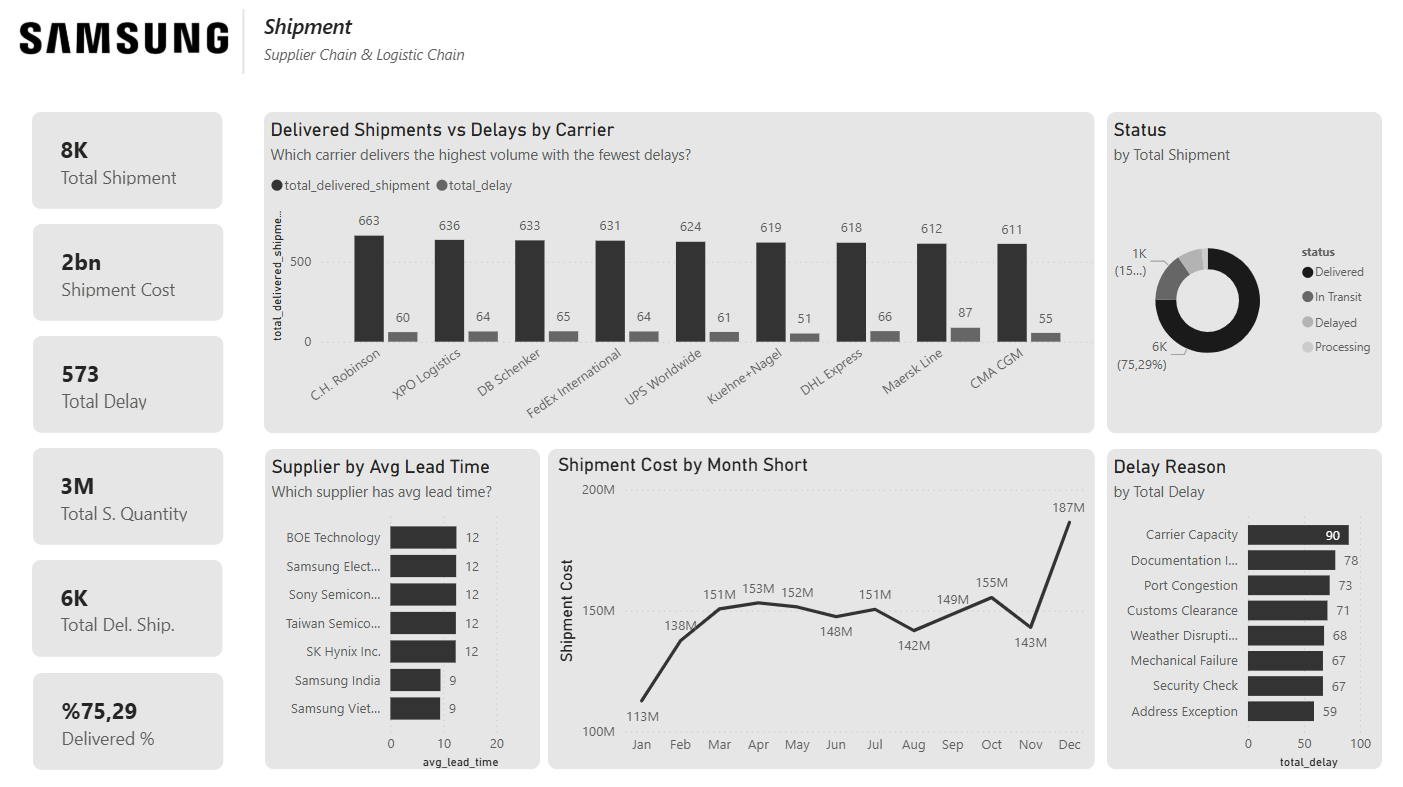

Layout of this report page (visuals, bound fields, positions):
{"tool":"powerbi","page":{"name":"Shipment","canvas":[1280,720],"ordinal":4},"visuals":[{"type":"shape","title":"Shipment","box":[243.2,12.6,201.3,46.7],"z":0},{"type":"shape","box":[204.3,9.7,38.9,59.3],"z":1000},{"type":"image","box":[5.8,9.7,211.1,52.5],"z":2000},{"type":"cardVisual","fields":{"Data":["measures_table.shipment_costs"]},"box":[32.8,205.7,173.1,88],"z":3000},{"type":"cardVisual","fields":{"Data":["measures_table.total_delay"]},"box":[32.8,307.6,173.1,88],"z":4000},{"type":"cardVisual","fields":{"Data":["measures_table.total_shipment_quantity"]},"box":[32.8,409.4,173.1,88],"z":5000},{"type":"cardVisual","fields":{"Data":["measures_table.total_delivered_shipment"]},"box":[31.7,511.3,173.1,88],"z":6000},{"type":"cardVisual","fields":{"Data":["measures_table.delivered_%"]},"box":[32.8,613.2,173.1,88],"z":7000},{"type":"cardVisual","fields":{"Data":["measures_table.total_shipment"]},"box":[31.7,103.8,173.1,88],"z":8000},{"type":"clusteredBarChart","title":"Supplier by  Avg Lead Time","fields":{"Y":["measures_table.avg_lead_time"],"Category":["dim_supplier.supplier_name"]},"box":[243.6,410,250,290.9],"z":9000},{"type":"clusteredColumnChart","title":"Delivered Shipments vs Delays by Carrier","fields":{"Category":["fact_shipment.carrier"],"Y":["measures_table.total_delivered_shipment","measures_table.total_delay"]},"box":[242.7,103.6,755.5,291.8],"z":10000},{"type":"lineChart","fields":{"Y":["measures_table.shipment_costs"],"Category":["dim_date.month_short"]},"box":[500.9,410,497.3,290.9],"z":11000},{"type":"clusteredBarChart","title":"Delay Reason","fields":{"Category":["fact_shipment.delay_reason"],"Y":["measures_table.total_delay"]},"box":[1009.1,410,250,290.9],"z":12000},{"type":"donutChart","title":"Status","fields":{"Category":["fact_shipment.status"],"Y":["measures_table.total_shipment"]},"box":[1009.1,103.6,250,291.8],"z":13000}]}

Visuals, with their boxes in screenshot pixels (x1, y1, x2, y2), scaled from the page's 1280x720 canvas onto the 1403x787 screenshot:
"Shipment" shape: {"x1": 267, "y1": 14, "x2": 487, "y2": 65}
shape: {"x1": 224, "y1": 11, "x2": 267, "y2": 75}
image: {"x1": 6, "y1": 11, "x2": 238, "y2": 68}
cardVisual - measures_table.shipment_costs: {"x1": 36, "y1": 225, "x2": 226, "y2": 321}
cardVisual - measures_table.total_delay: {"x1": 36, "y1": 336, "x2": 226, "y2": 432}
cardVisual - measures_table.total_shipment_quantity: {"x1": 36, "y1": 447, "x2": 226, "y2": 544}
cardVisual - measures_table.total_delivered_shipment: {"x1": 35, "y1": 559, "x2": 224, "y2": 655}
cardVisual - measures_table.delivered_%: {"x1": 36, "y1": 670, "x2": 226, "y2": 766}
cardVisual - measures_table.total_shipment: {"x1": 35, "y1": 113, "x2": 224, "y2": 210}
"Supplier by  Avg Lead Time" clusteredBarChart: {"x1": 267, "y1": 448, "x2": 541, "y2": 766}
"Delivered Shipments vs Delays by Carrier" clusteredColumnChart: {"x1": 266, "y1": 113, "x2": 1094, "y2": 432}
lineChart - measures_table.shipment_costs x dim_date.month_short: {"x1": 549, "y1": 448, "x2": 1094, "y2": 766}
"Delay Reason" clusteredBarChart: {"x1": 1106, "y1": 448, "x2": 1380, "y2": 766}
"Status" donutChart: {"x1": 1106, "y1": 113, "x2": 1380, "y2": 432}
